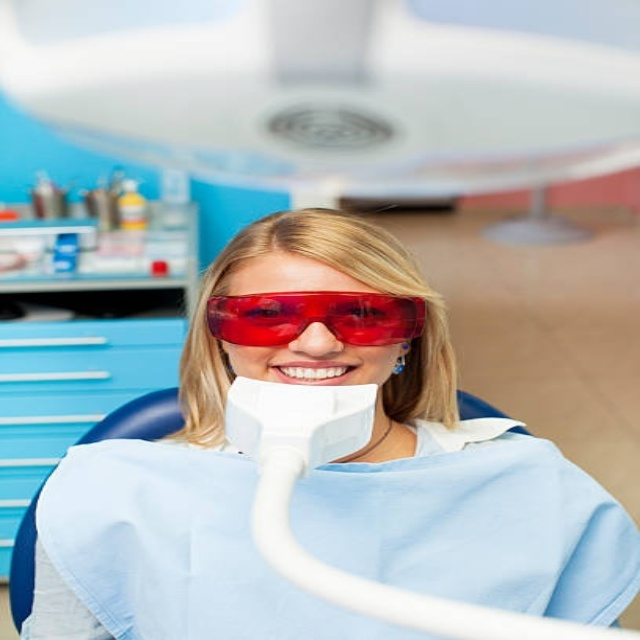Gafas: (206, 293, 426, 347)
Sin_mascara: (270, 362, 359, 384)
